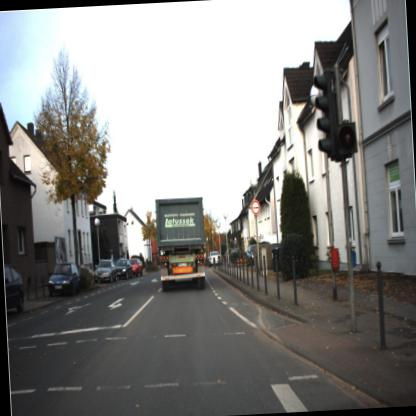prohibitory: (247, 199, 264, 217)
